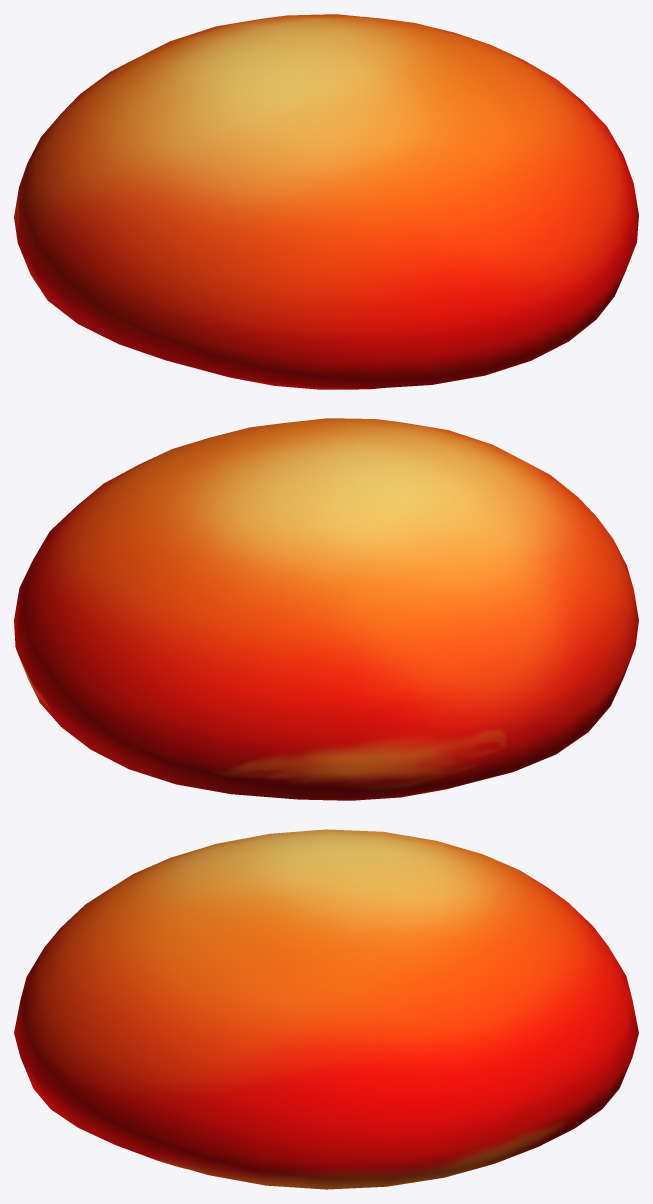
Rendered from lava_drop.fbx.
3 renders of one model, top to bottom at view 1: azimuth 30°, elevation 25°; view 2: azimuth 150°, elevation 25°; view 3: azimuth 270°, elevation 25°, orthographic. The views are drawn at different scales.
Parts seen in each view (by area): view 1: lava_drop; view 2: lava_drop; view 3: lava_drop.
Boxes of the visible parts, box(x1,y1,x2,y2) form: lava_drop: box(14, 14, 638, 389); lava_drop: box(14, 418, 638, 800); lava_drop: box(14, 829, 638, 1189).
Bounding box in the file's own units: 32.65 × 12.63 × 33.99.
1 material, 1 textured.
